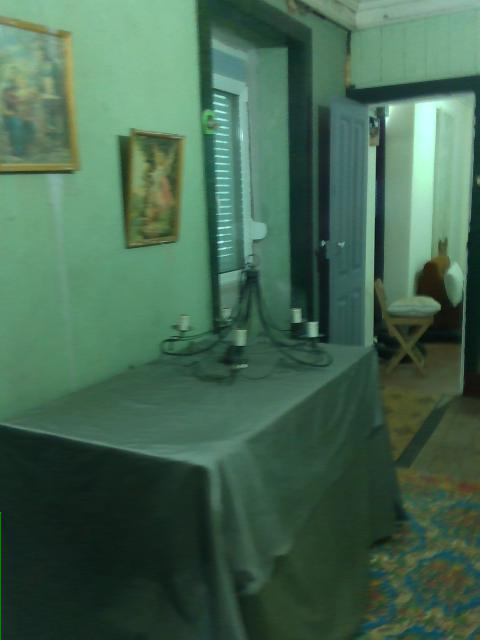door: (319, 96, 367, 344)
